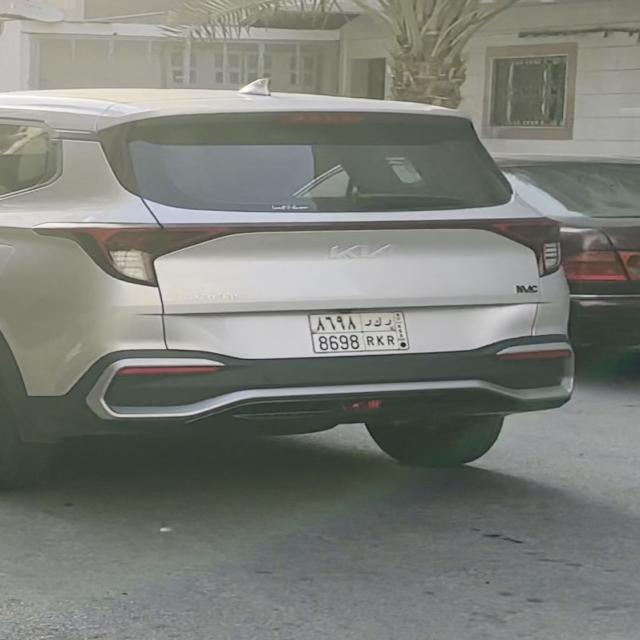Car-plate: (295, 303, 429, 358)
